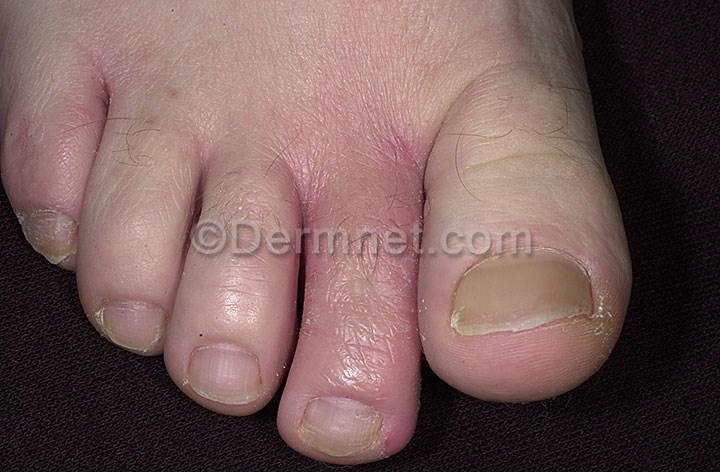Eczema: (287, 72, 396, 169), (349, 21, 439, 90), (70, 8, 177, 61), (304, 304, 376, 380), (342, 162, 400, 240), (311, 244, 381, 305), (303, 16, 367, 78), (425, 0, 485, 66), (299, 162, 350, 231), (0, 127, 45, 204), (62, 77, 114, 142), (41, 38, 115, 80), (376, 302, 414, 381), (384, 227, 424, 300), (387, 102, 428, 173), (115, 47, 154, 114), (410, 72, 463, 116), (42, 173, 84, 211), (402, 159, 425, 221), (388, 386, 417, 431), (47, 138, 73, 186), (156, 65, 190, 98), (343, 453, 381, 467), (287, 380, 303, 412), (379, 428, 399, 453), (278, 418, 296, 441), (403, 427, 409, 446)
